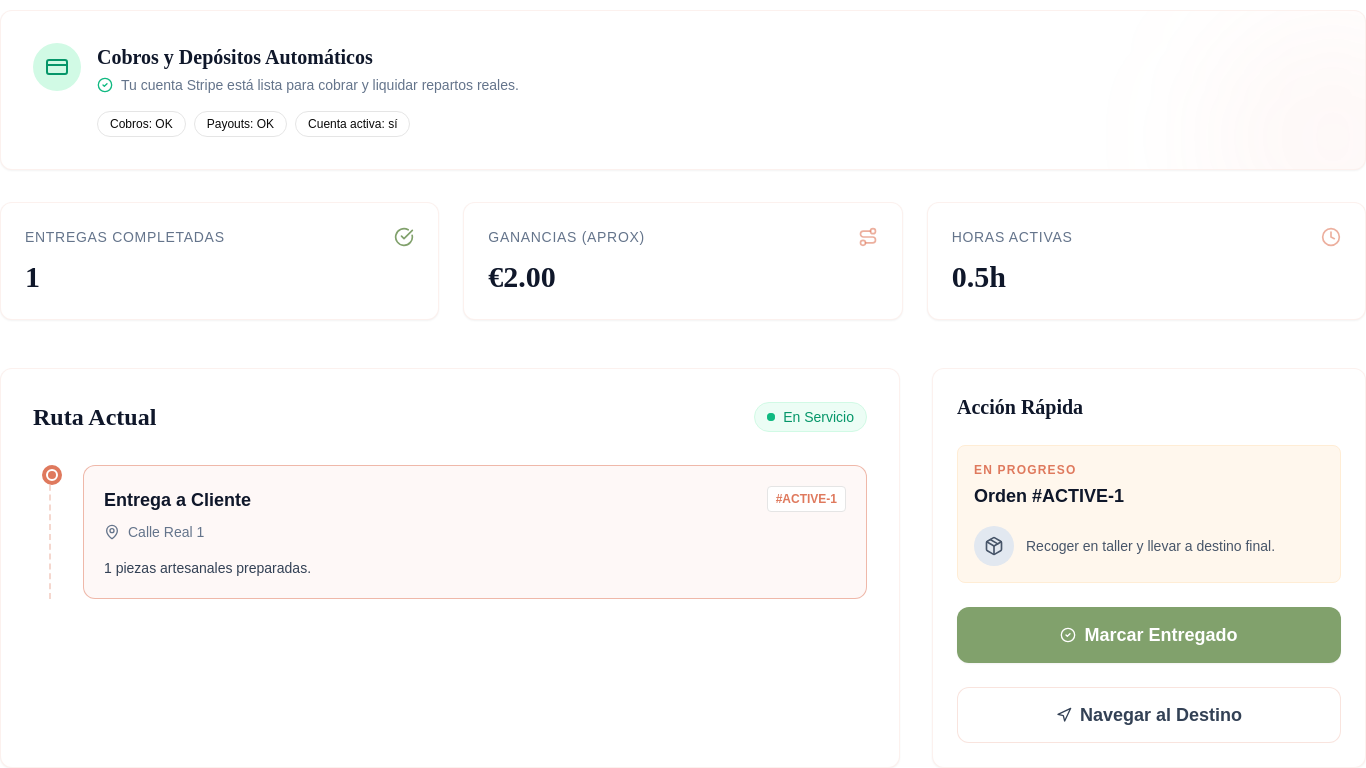
RunnerDashboard component › loads current and completed deliveries, shows the oauth success toast and refreshes after marking delivered
(page scrolled)
Expected: the text "Tu cuenta Stripe está lista para cobrar" is shown, x1=121 y1=77 x2=519 y2=93
Expected: the text "1" is shown, x1=25 y1=260 x2=40 y2=293
Click the button "Marcar Entregado" at (1149, 635), box x1=957 y1=607 x2=1341 y2=663
(page scrolled)
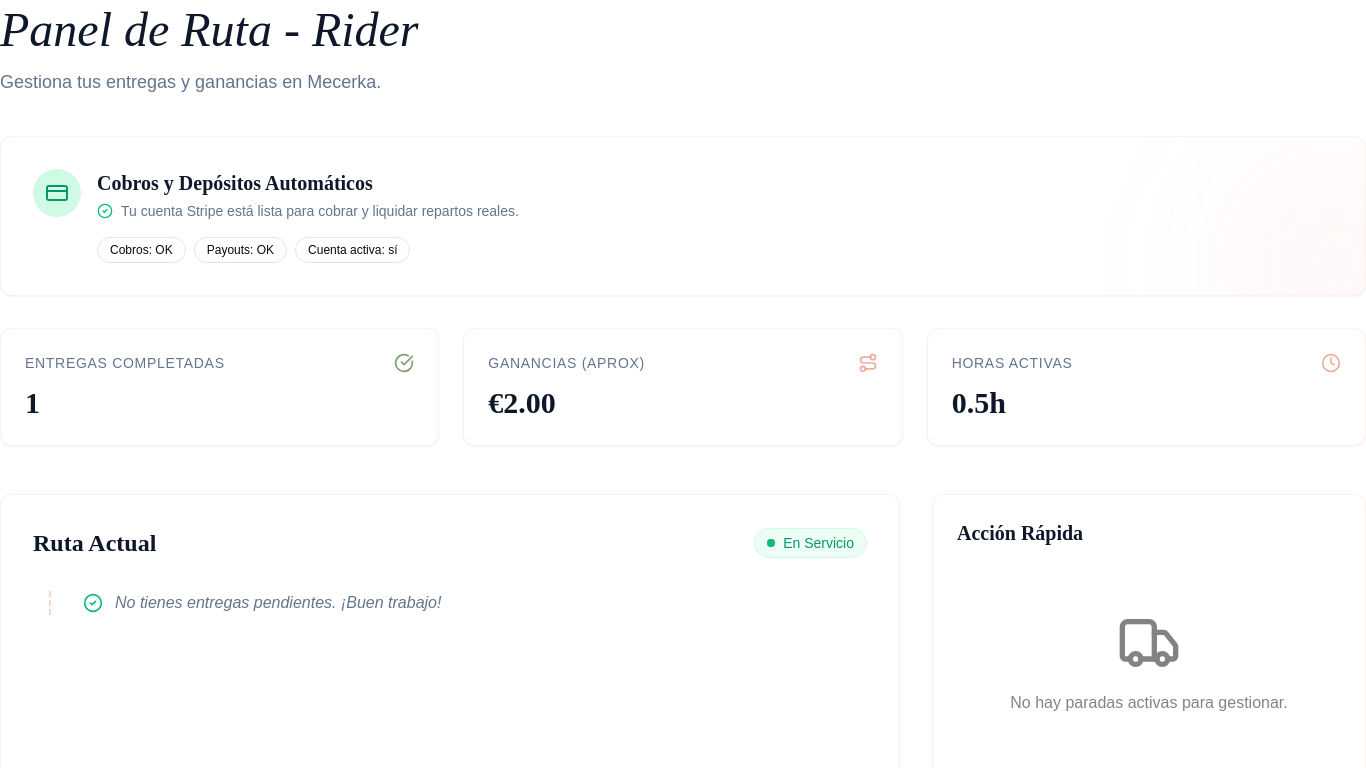
Result: the text "No tienes entregas pendientes. ¡Buen trabajo!" is shown at x1=83 y1=593 x2=441 y2=613
